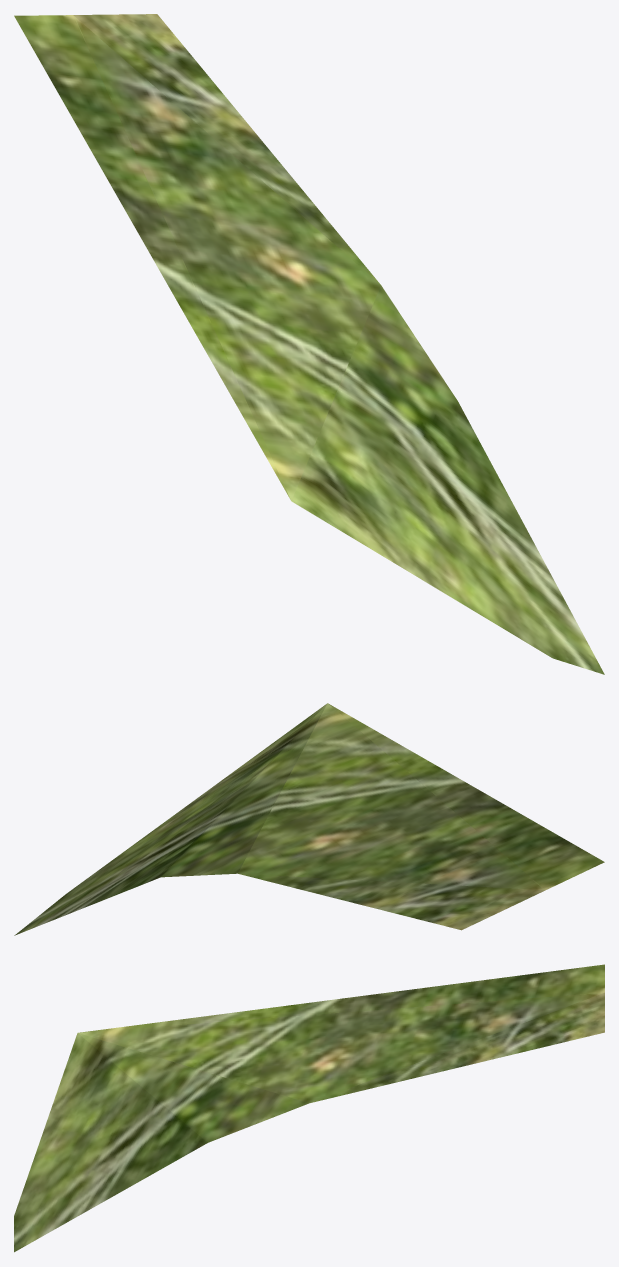
The picture shows the model from 3 angles, top to bottom: view 1: azimuth 30°, elevation 25°; view 2: azimuth 210°, elevation 25°; view 3: azimuth 270°, elevation 25°; orthographic projection. The views are drawn at different scales.
Size of the model in its own units: 1.01 by 1.33 by 2.95.
Materials: 1 (1 with a texture image).
